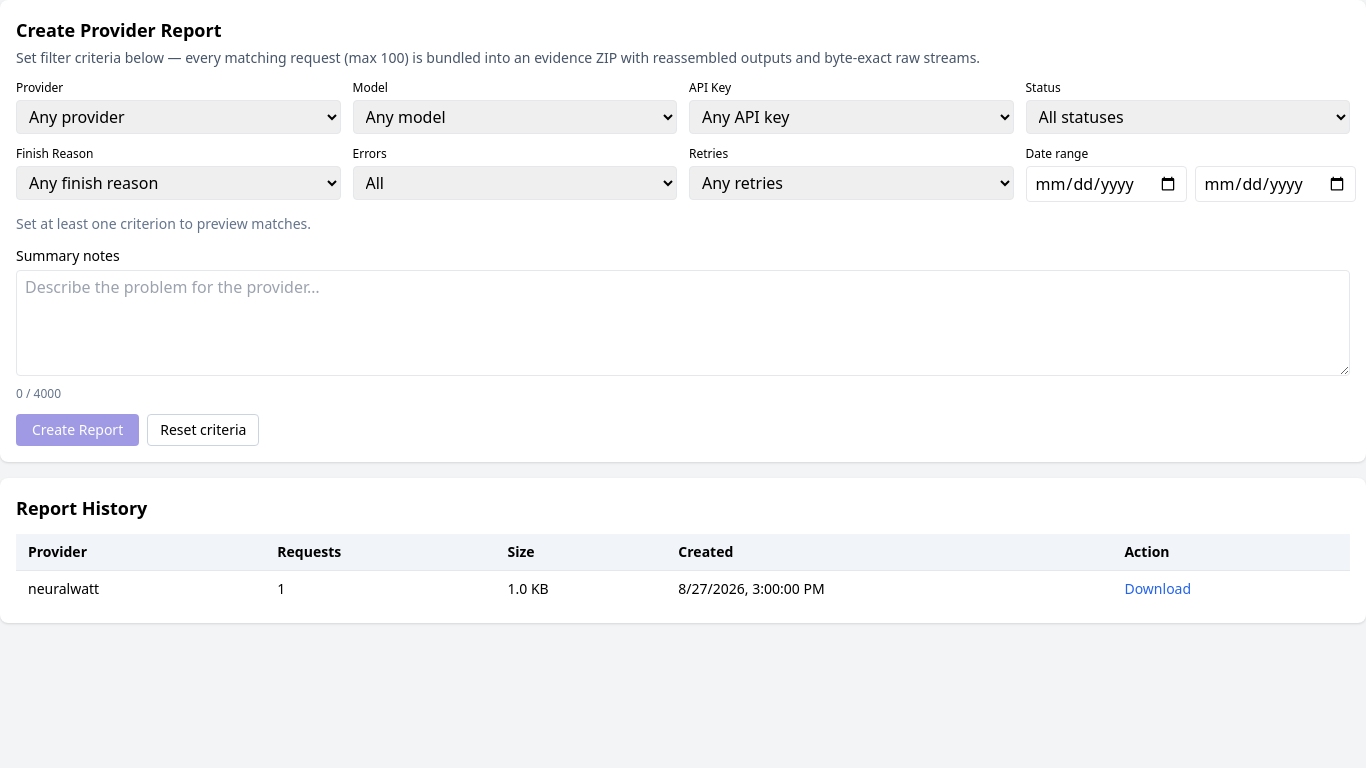
Scenario: ReportsView › previews the match count from criteria
The image size is (1366, 768).
Select "neuralwatt" in the dropdown labelled "Provider" at [178, 117], box [16,100,340,134]
Wait 400 ms
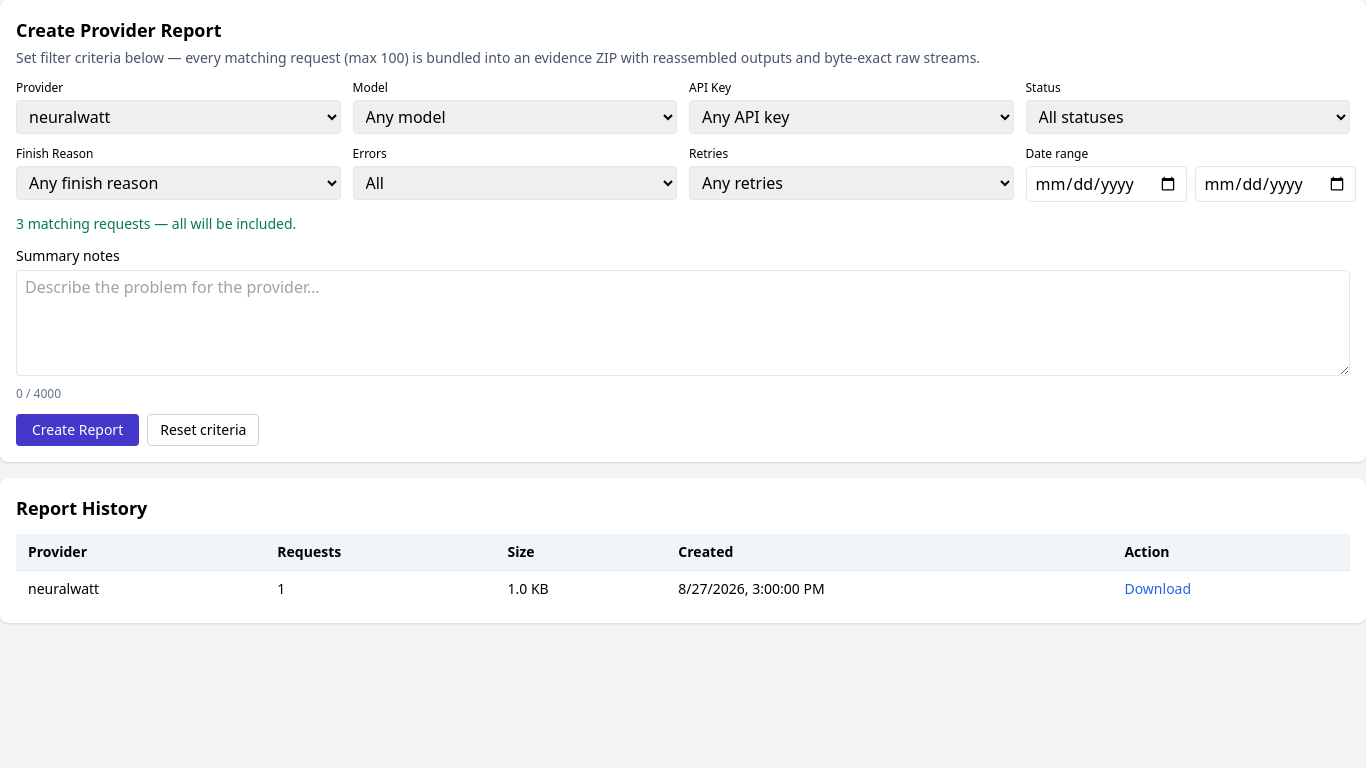
Check: the text "3 matching requests — all will be included." is shown, box [16,214,296,233]
